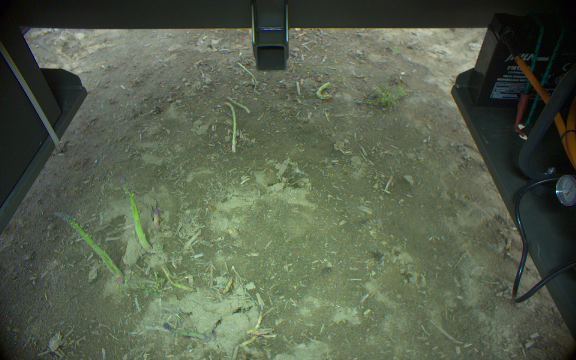aspa: (49, 211, 124, 284), (123, 185, 150, 254), (157, 259, 197, 292), (158, 321, 211, 344), (222, 100, 237, 153), (233, 57, 259, 87), (224, 95, 252, 115), (316, 79, 334, 101), (151, 205, 160, 231)
